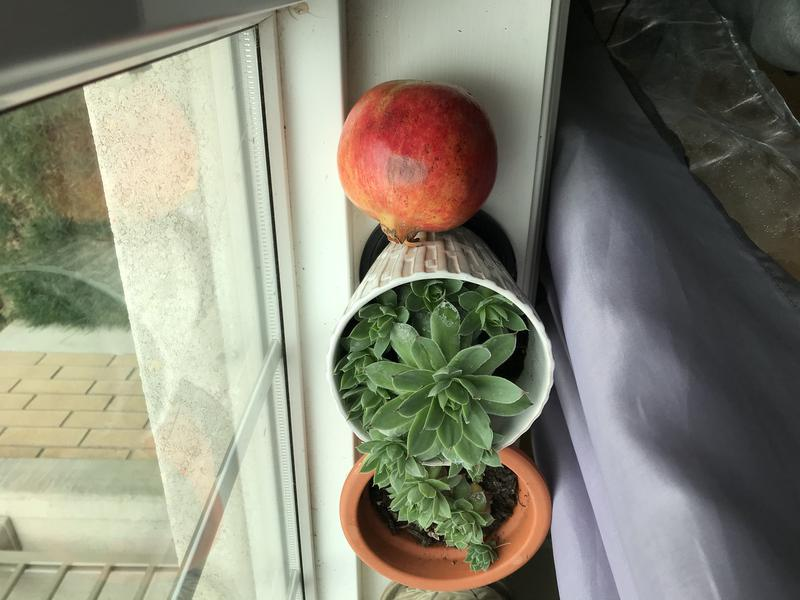pomegranate: (330, 73, 504, 256)
